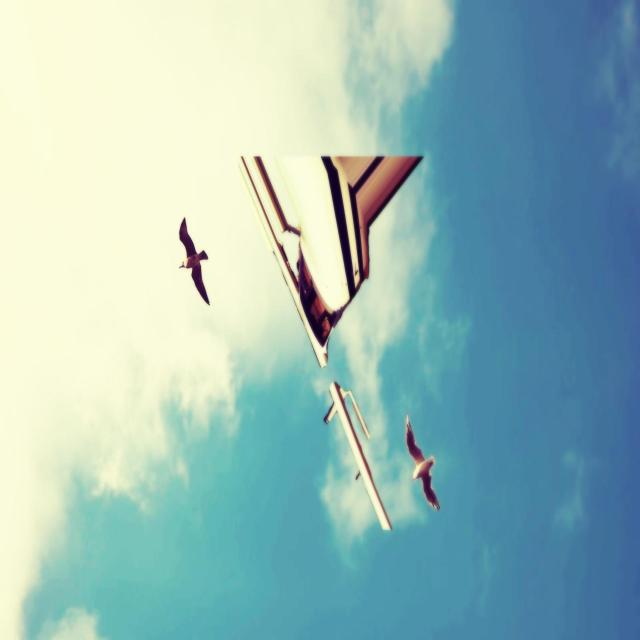airplane: (237, 152, 424, 531)
